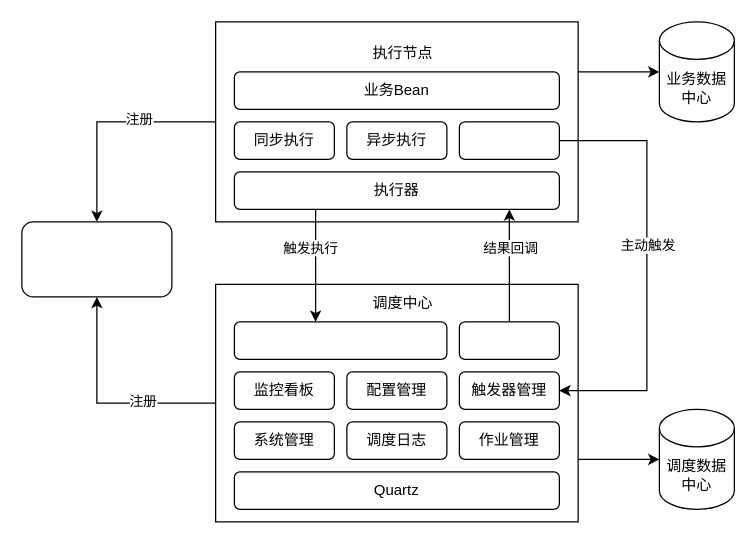
Some shapes in this 756 by 544 pixel diagram are drawn without their labels. The shapes that lost their labels are listed below. From the top down, each one's centre as x and y in pixels, then its label:
At (x=508, y=140): "作业链".
At (x=96, y=259): "服务注册与发现中心 配置中心 Nacos".
At (x=340, y=340): "RMS".
At (x=508, y=340): "Callback".
